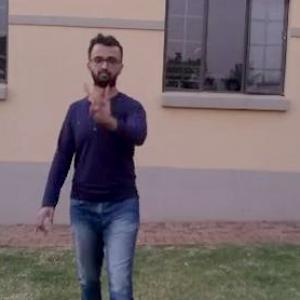takeoff-hand: (86, 86, 118, 130)
